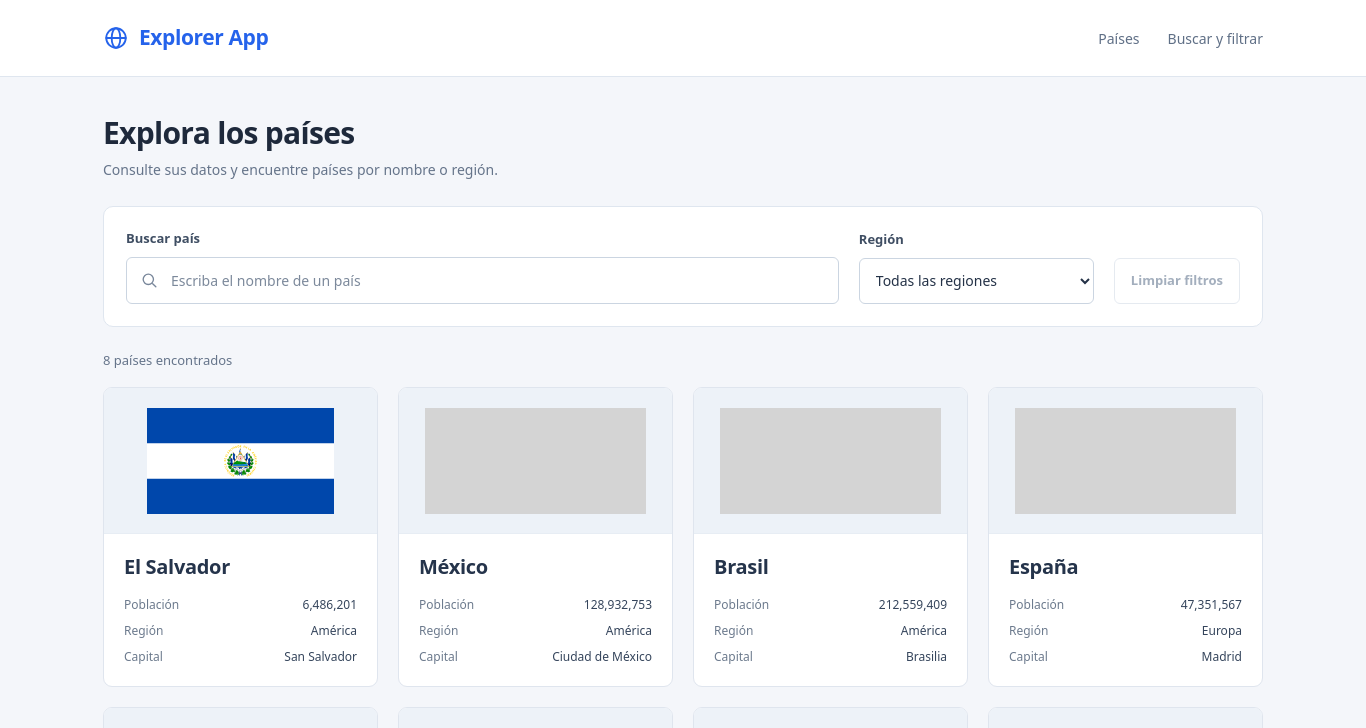
Test: países y filtros › actualiza la búsqueda inmediatamente y no distingue mayúsculas ni acentos
Type "  JAPon  " into the search field labelled "Buscar país" at (497, 280), box [169,258,825,302]
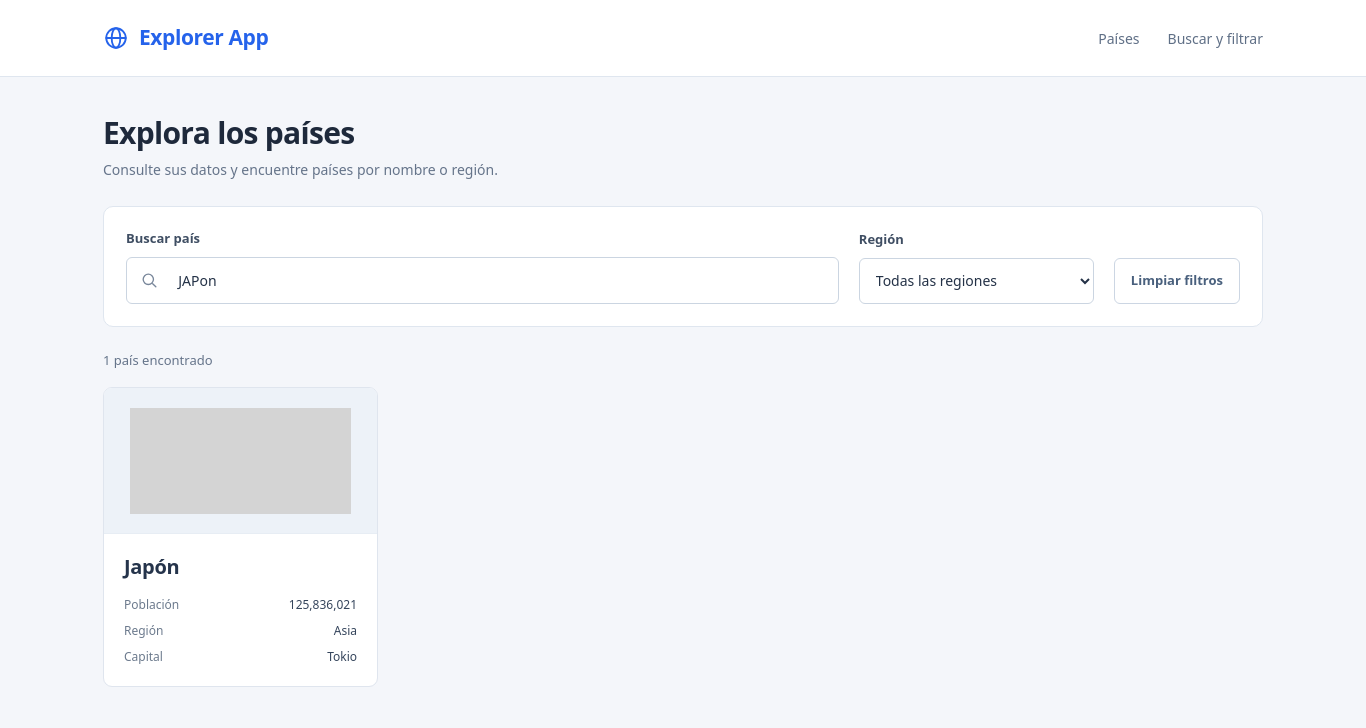
Expected: the element "Japón" is shown, [103,387,378,687]
Result: the message reads "1 país encontrado" at [103,350,212,368]
